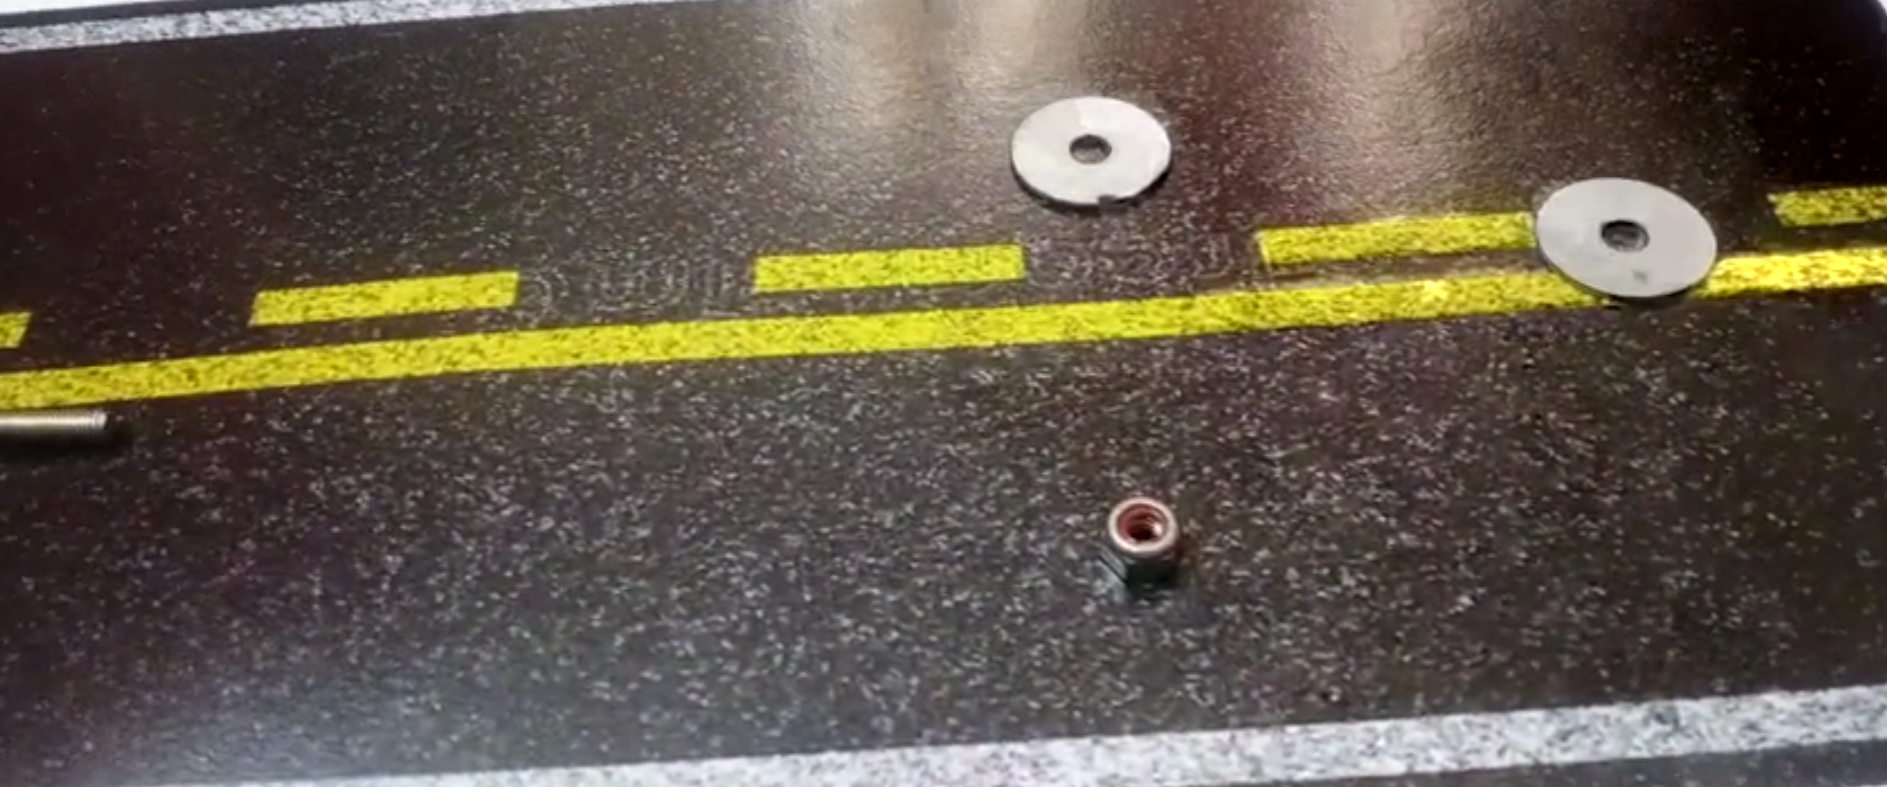metal: (1532, 168, 1720, 303), (1008, 91, 1175, 217), (1094, 495, 1188, 582), (1, 398, 114, 449)
